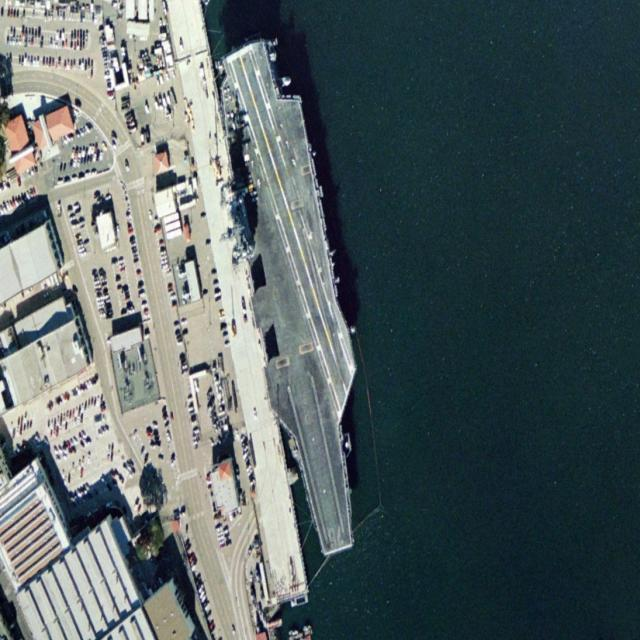Aircraft Carrier: (196, 29, 388, 568)
